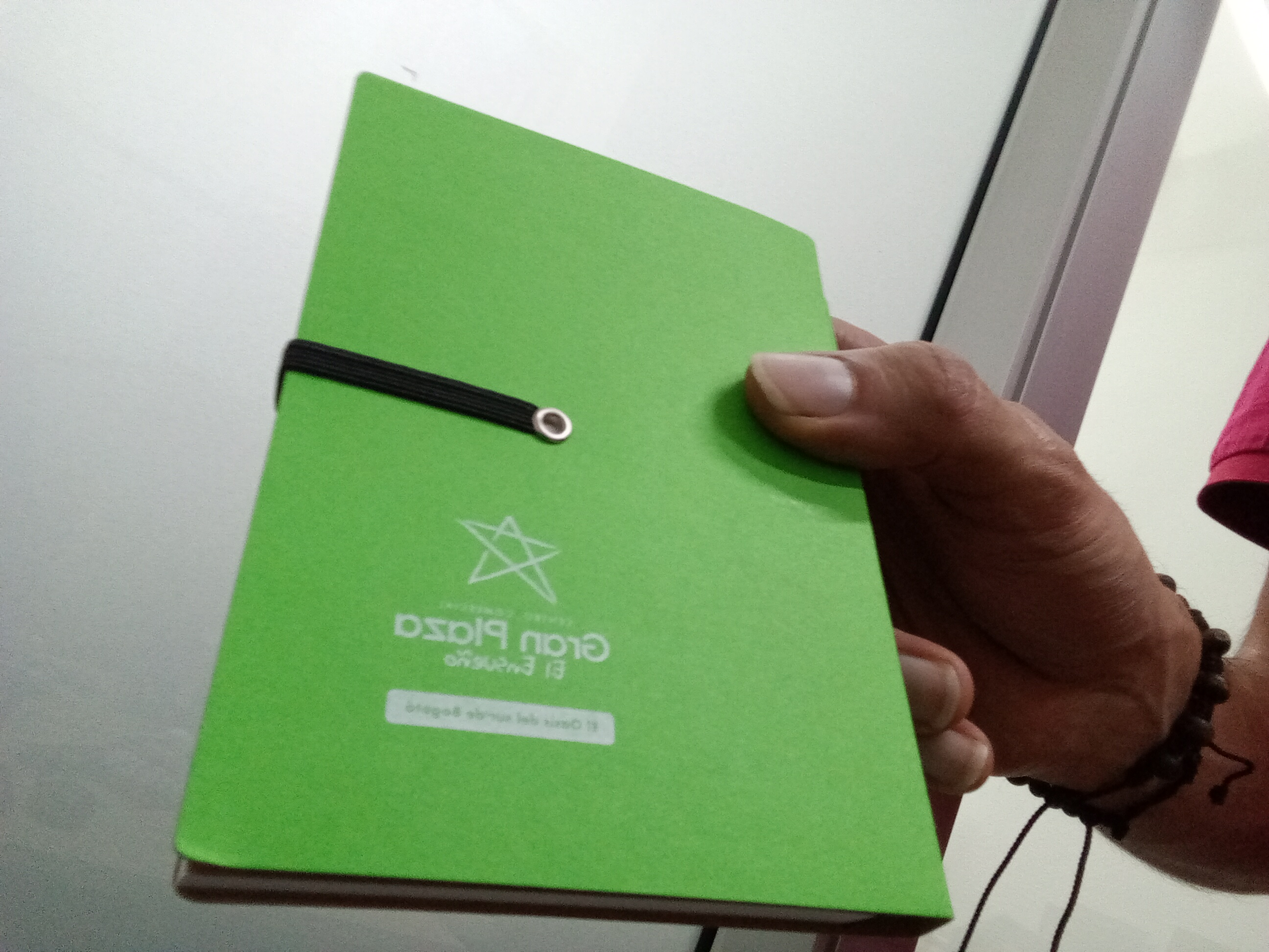Papel: (171, 70, 953, 931)
